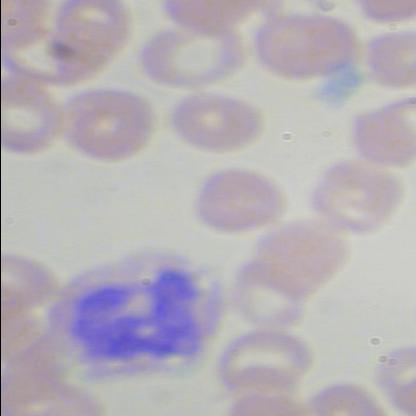WBC: (46, 235, 230, 390)
